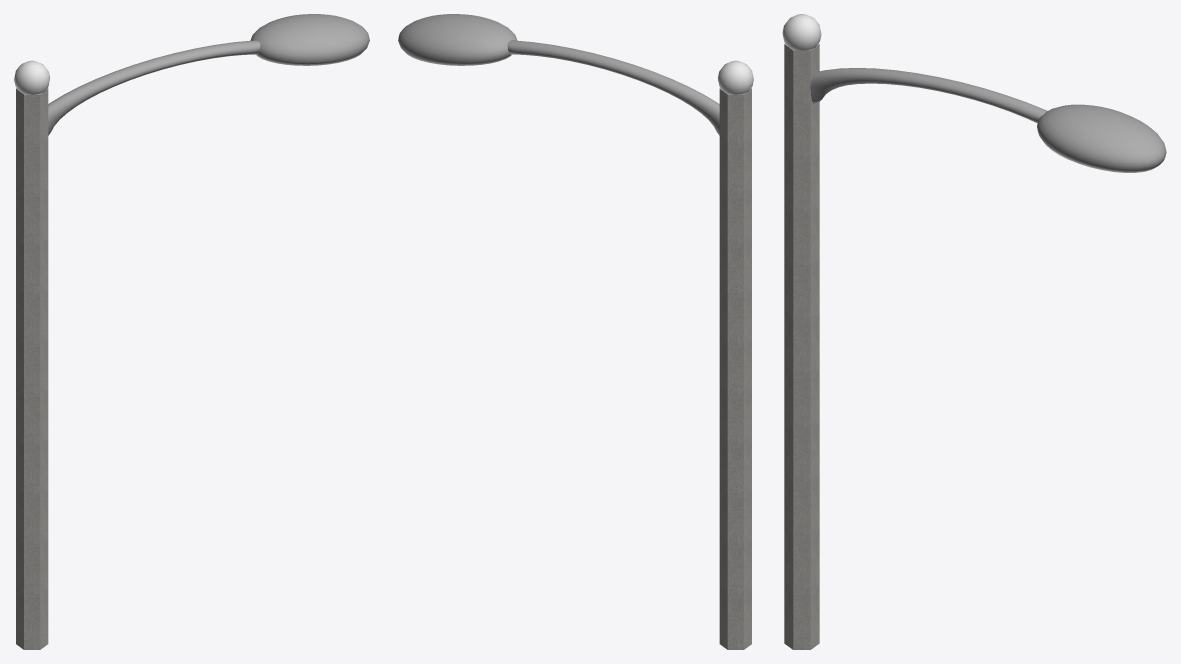
File: StreetLamp.dae
3 views of the same model, side by side, from view 1: azimuth 30°, elevation 25°; view 2: azimuth 150°, elevation 25°; view 3: azimuth 330°, elevation 25° (orthographic). The views are drawn at different scales.
Parts seen in each view (by area): view 1: Pole, LightPart, Torus_001, Sphere; view 2: Pole, LightPart, Torus_001, Sphere; view 3: Pole, LightPart, Torus_001, Sphere.
Part boxes in pixels (x1,y1,x2,y2): Pole: (16,88,48,649); LightPart: (250,14,369,65); Torus_001: (48,40,260,135); Sphere: (14,60,49,94); Pole: (719,88,751,649); LightPart: (398,14,517,65); Torus_001: (507,40,719,135); Sphere: (718,60,753,94); Pole: (784,43,819,649); LightPart: (1037,104,1166,172); Torus_001: (810,68,1047,123); Sphere: (782,14,821,50).
Size of what is drawn, in the model's own units: 9.13 by 2 by 14.53.
3 materials, 1 textured.
